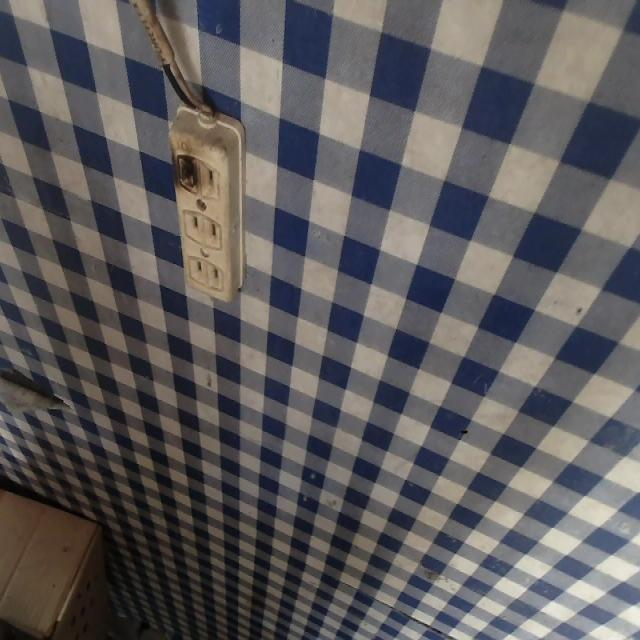-: (169, 144, 200, 201)
